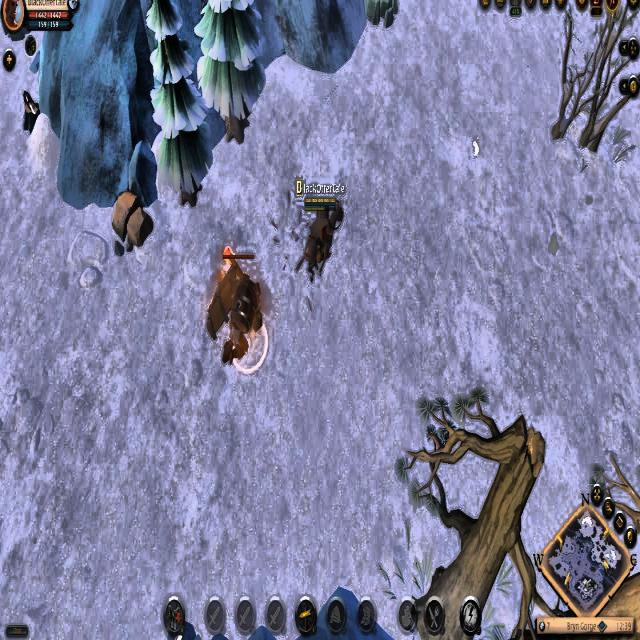copperore: (19, 82, 43, 134)
limestone: (110, 190, 155, 258)
sandstone: (363, 0, 403, 29)
